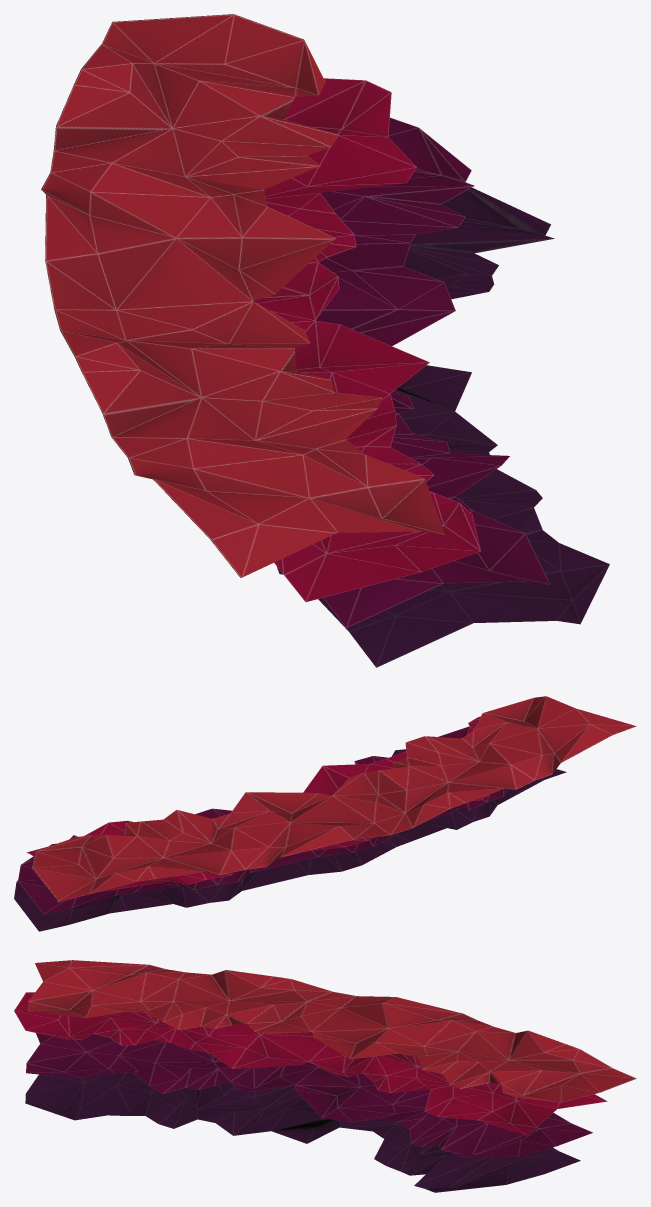
File: Paroi_virage_L.fbx
The picture shows the model from 3 angles, top to bottom: view 1: azimuth 30°, elevation 25°; view 2: azimuth 150°, elevation 25°; view 3: azimuth 270°, elevation 25°; orthographic projection. The views are drawn at different scales.
Visible parts, largest first — view 1: Paroi_01_R1, Paroi_01_R7, Paroi_01_R13, Paroi_01_R5, Paroi_01_R11, Paroi_01_R6, Paroi_02_R8, Paroi_01_R10, Paroi_01_R12, Paroi_01_R8, Paroi_03_R4, Paroi_01_R2 (+21 smaller); view 2: Paroi_01_R1, Paroi_01_R13, Paroi_01_R7, Paroi_01_R5, Paroi_01_R6, Paroi_01_R12, Paroi_01_R11, Paroi_04_R5, Paroi_01_R2, Paroi_01_R9, Paroi_01_R8, Paroi_01_R10 (+15 smaller); view 3: Paroi_01_R1, Paroi_01_R13, Paroi_02_R3, Paroi_02_R8, Paroi_01_R7, Paroi_04_R1, Paroi_03_R1, Paroi_03_R10, Paroi_01_R5, Paroi_04_R9, Paroi_01_R6, Paroi_04_R6 (+33 smaller).
Boxes of the visible parts, left/top/right/bottom form: Paroi_01_R1: left=128, top=438, right=336, bottom=577; Paroi_01_R7: left=56, top=14, right=233, bottom=127; Paroi_01_R13: left=60, top=331, right=253, bottom=457; Paroi_01_R5: left=41, top=126, right=209, bottom=237; Paroi_01_R11: left=116, top=237, right=335, bottom=309; Paroi_01_R6: left=154, top=14, right=335, bottom=133; Paroi_02_R8: left=264, top=78, right=416, bottom=198; Paroi_01_R10: left=45, top=194, right=175, bottom=309; Paroi_01_R12: left=54, top=301, right=309, bottom=348; Paroi_01_R8: left=111, top=115, right=338, bottom=176; Paroi_03_R4: left=321, top=186, right=473, bottom=270; Paroi_01_R2: left=256, top=439, right=444, bottom=534; Paroi_01_R1: left=479, top=708, right=636, bottom=780; Paroi_01_R13: left=378, top=762, right=534, bottom=827; Paroi_01_R7: left=32, top=858, right=204, bottom=901; Paroi_01_R5: left=163, top=822, right=290, bottom=875; Paroi_01_R6: left=32, top=823, right=162, bottom=879; Paroi_01_R12: left=332, top=770, right=412, bottom=835; Paroi_01_R11: left=246, top=792, right=373, bottom=823; Paroi_04_R5: left=14, top=882, right=172, bottom=931; Paroi_01_R2: left=461, top=696, right=546, bottom=761; Paroi_01_R9: left=177, top=792, right=289, bottom=843; Paroi_01_R8: left=126, top=810, right=229, bottom=857; Paroi_01_R10: left=281, top=822, right=389, bottom=857; Paroi_01_R1: left=35, top=960, right=185, bottom=1001; Paroi_01_R13: left=174, top=970, right=332, bottom=1021; Paroi_02_R3: left=180, top=1029, right=326, bottom=1068; Paroi_02_R8: left=424, top=1085, right=556, bottom=1135; Paroi_01_R7: left=510, top=1030, right=636, bottom=1092; Paroi_04_R1: left=25, top=1074, right=129, bottom=1120; Paroi_03_R1: left=26, top=1036, right=138, bottom=1077; Paroi_03_R10: left=120, top=1055, right=254, bottom=1093; Paroi_01_R5: left=390, top=1013, right=527, bottom=1059; Paroi_04_R9: left=126, top=1093, right=264, bottom=1135; Paroi_01_R6: left=461, top=1060, right=599, bottom=1102; Paroi_04_R6: left=414, top=1153, right=527, bottom=1192.
Size of the model in its own units: 55.69 by 11.1 by 84.52.
